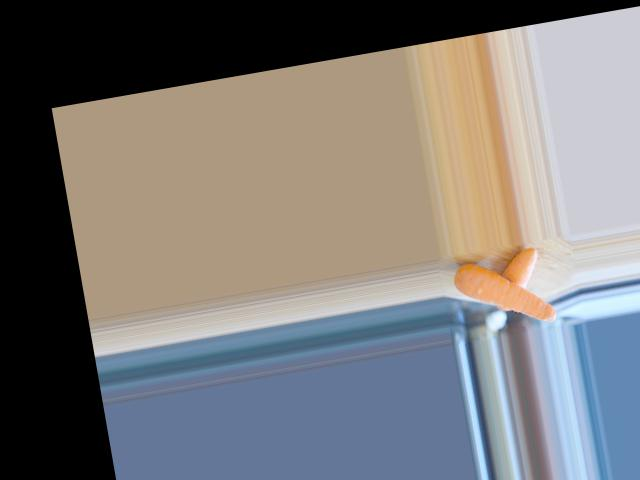carrot: (486, 247, 543, 312)
